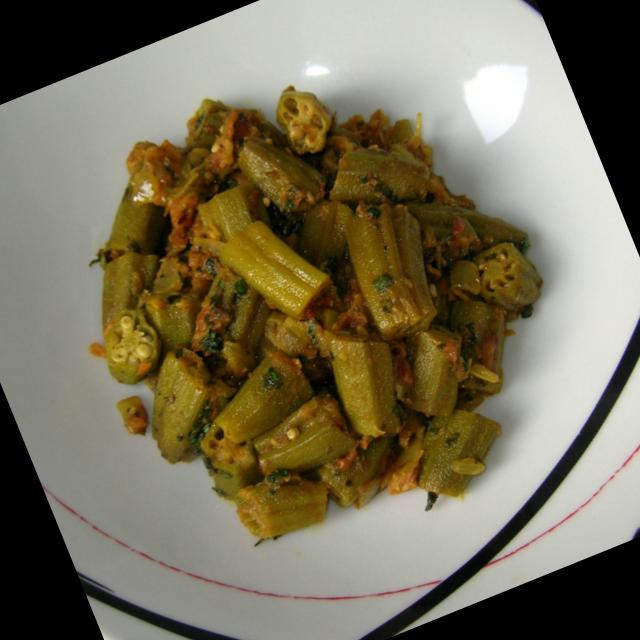BhindiMasala: (21, 7, 610, 608)
